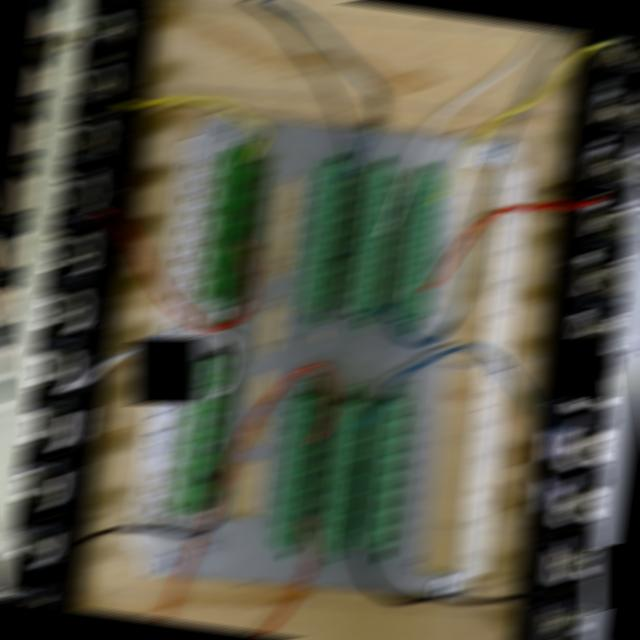Terminal_1: (170, 354, 230, 518), (199, 146, 259, 305)
Terminal_2: (268, 395, 326, 550), (314, 401, 371, 555), (296, 160, 353, 308), (345, 165, 399, 314), (393, 171, 446, 320)
